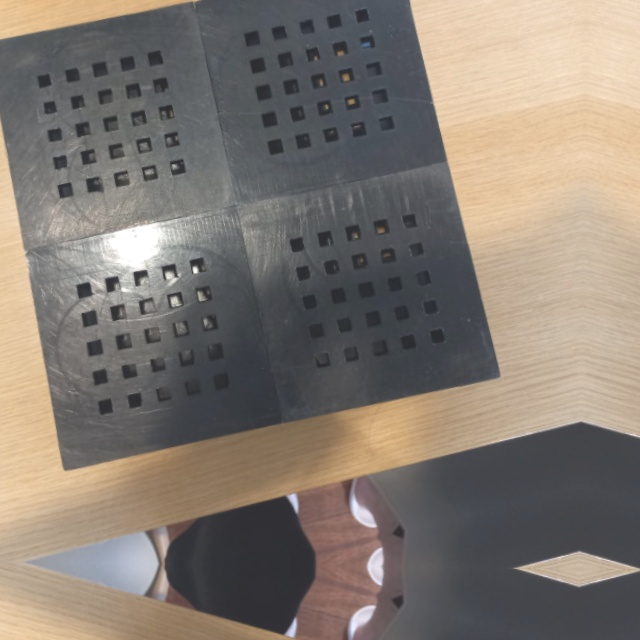pallet: (0, 0, 506, 478)
